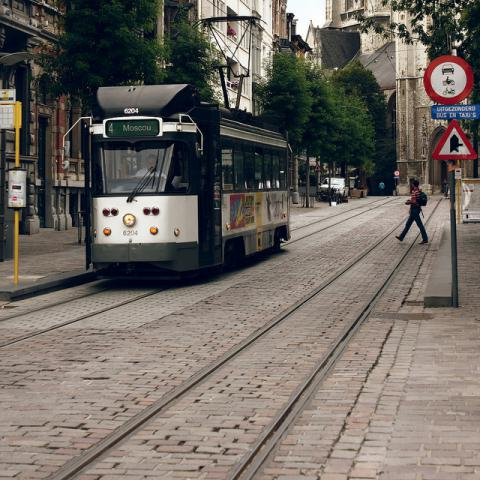bus: (84, 85, 296, 271)
car: (318, 177, 345, 194)
